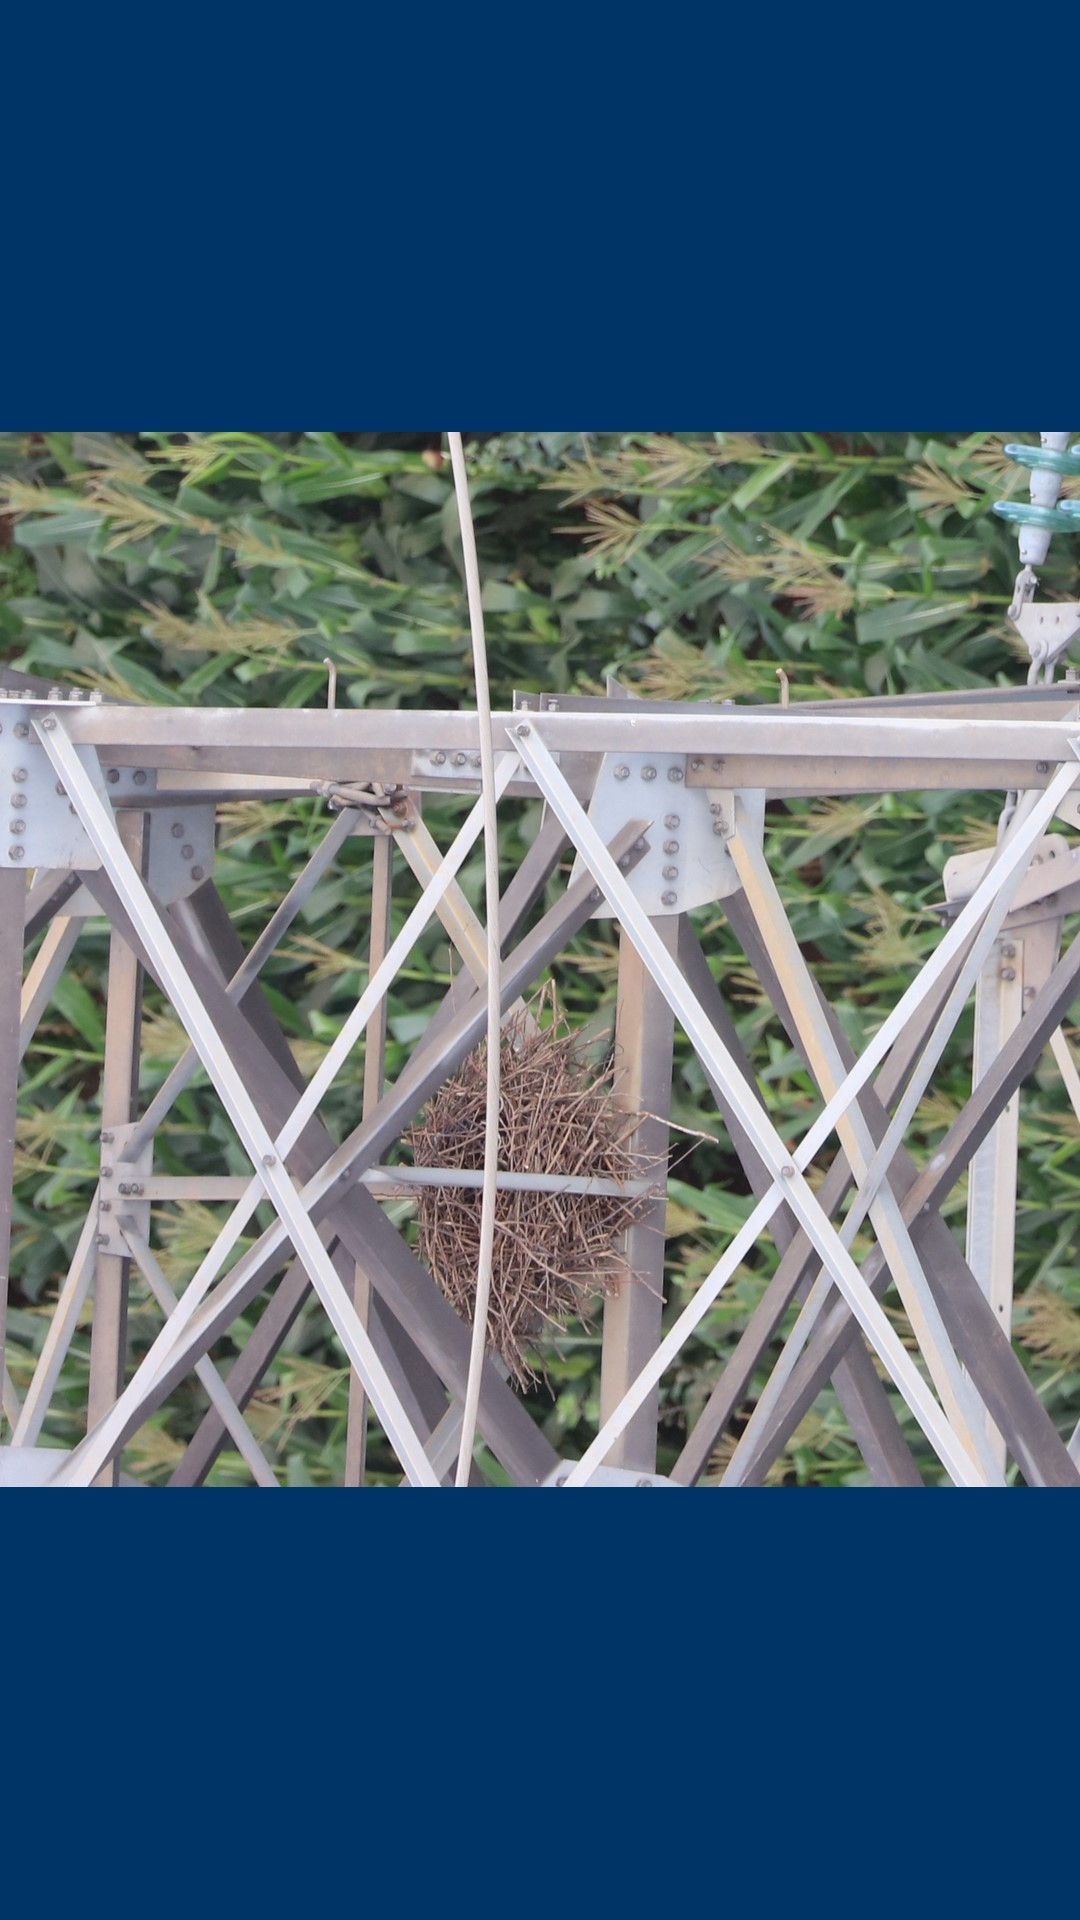niaowo: (359, 1021, 717, 1361)
